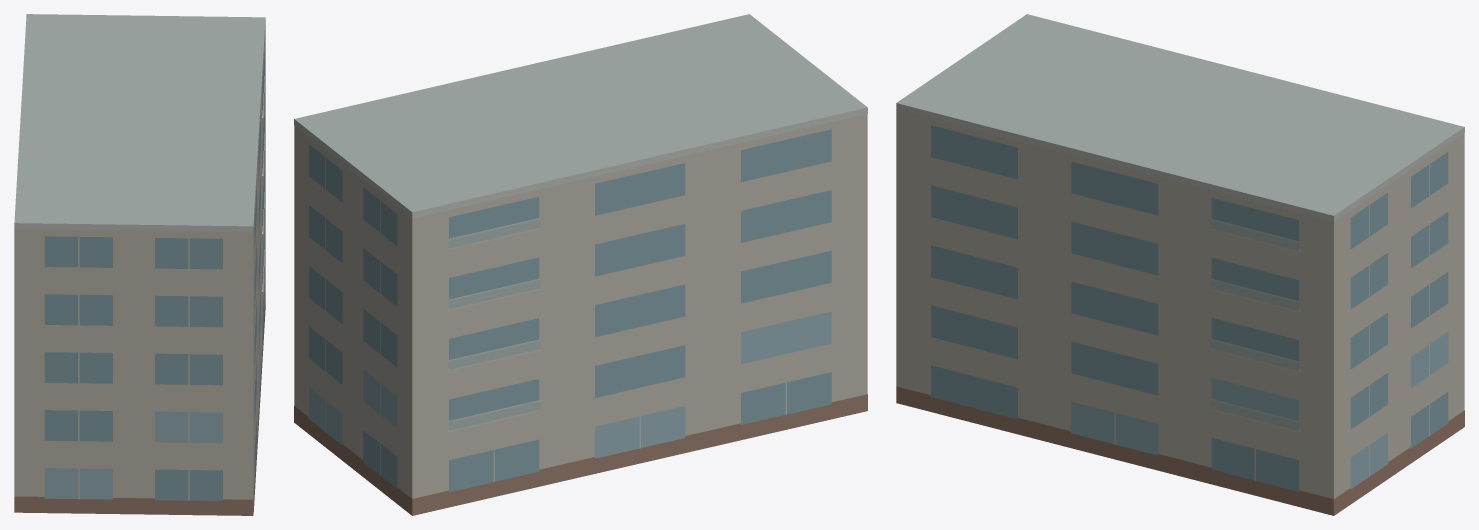
The model's file is survey-upis-33005253.glb.
3 renders of one model, left to right at view 1: azimuth 30°, elevation 25°; view 2: azimuth 150°, elevation 25°; view 3: azimuth 270°, elevation 25°, orthographic. The views are drawn at different scales.
Parts seen in each view (by area): view 1: survey-upis-33005253.tmp; view 2: survey-upis-33005253.tmp; view 3: survey-upis-33005253.tmp.
Part boxes in pixels (x1,y1,x2,y2): survey-upis-33005253.tmp: (14, 14, 265, 515); survey-upis-33005253.tmp: (294, 14, 867, 515); survey-upis-33005253.tmp: (896, 14, 1464, 515).
Bounding box in the file's own units: 17.25 × 11.95 × 20.53.
